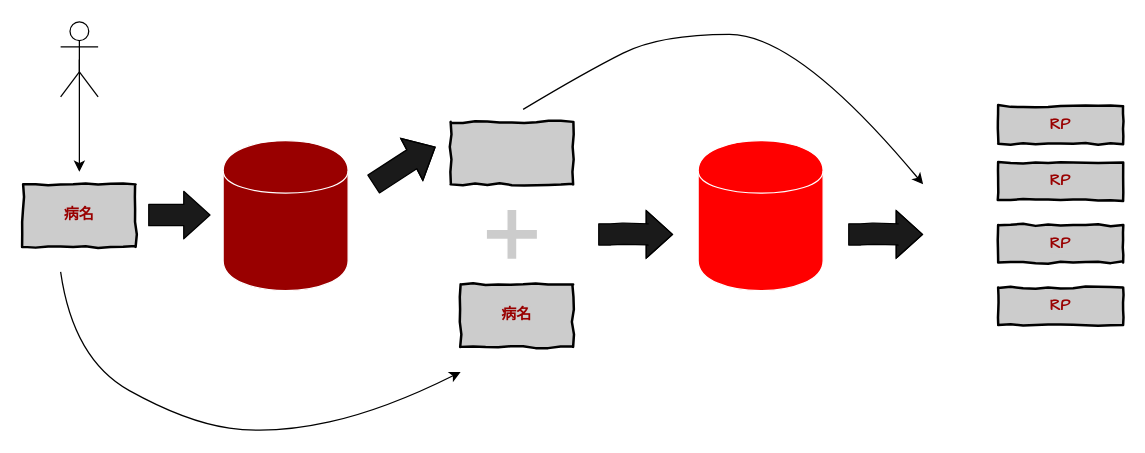
Some shapes in this 1145 by 453 pixel diagram are drawn without their labels. The centre of each missing label's shape, as x and y in pixels:
Actor: point 78,59
・主項目１ ・主項目２ ・主項目３: point 511,152
